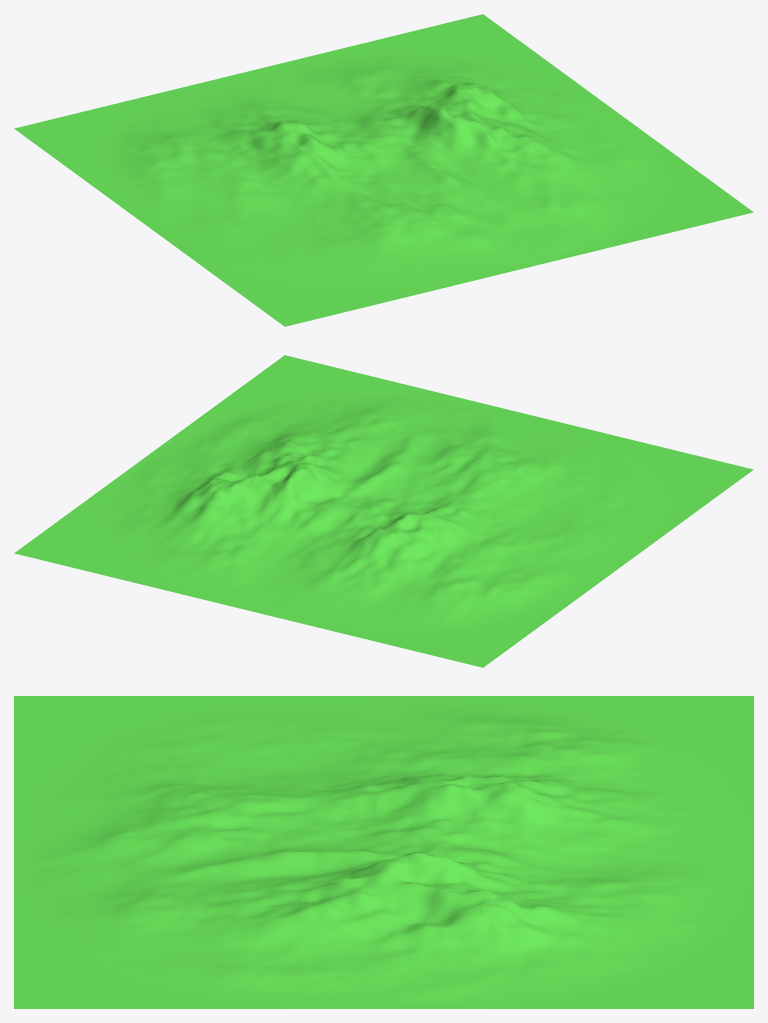
The model's file is terrain_for_yakooza.glb.
3 views of the same model, one above another, from view 1: azimuth 30°, elevation 25°; view 2: azimuth 150°, elevation 25°; view 3: azimuth 270°, elevation 25° (orthographic). The views are drawn at different scales.
Visible parts, largest first — view 1: Landscape.010; view 2: Landscape.010; view 3: Landscape.010.
Part boxes in pixels (x1=…): Landscape.010: x1=14, y1=14, x2=753, y2=326; Landscape.010: x1=14, y1=355, x2=753, y2=667; Landscape.010: x1=14, y1=696, x2=753, y2=1008.
Size of the model in its own units: 4 by 0.2799 by 4.
